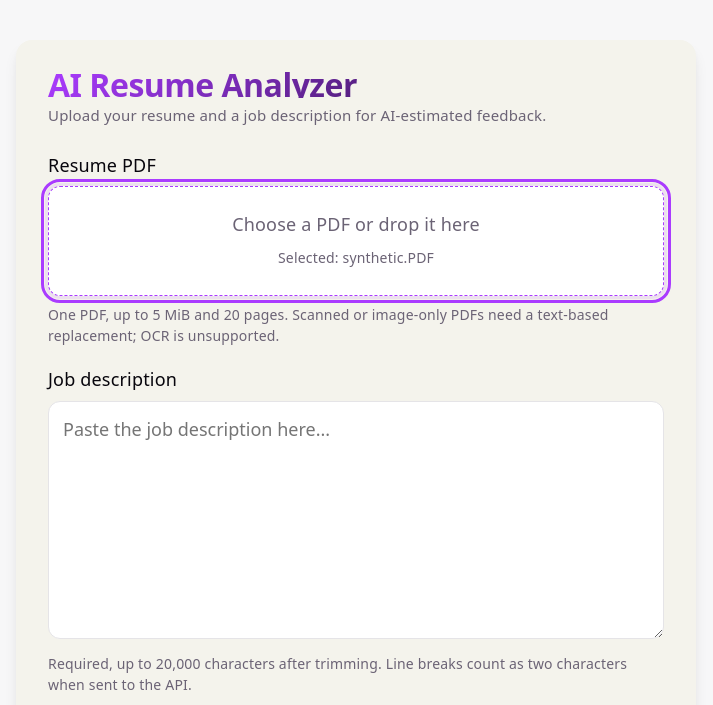
submits trimmed multipart input once, renders feedback, and clears all session state
Earlier steps of the test are not shown.
Type "  Python developer  " into the text box labelled "Job description" at (356, 520), box [48,401,664,639]
(page scrolled)
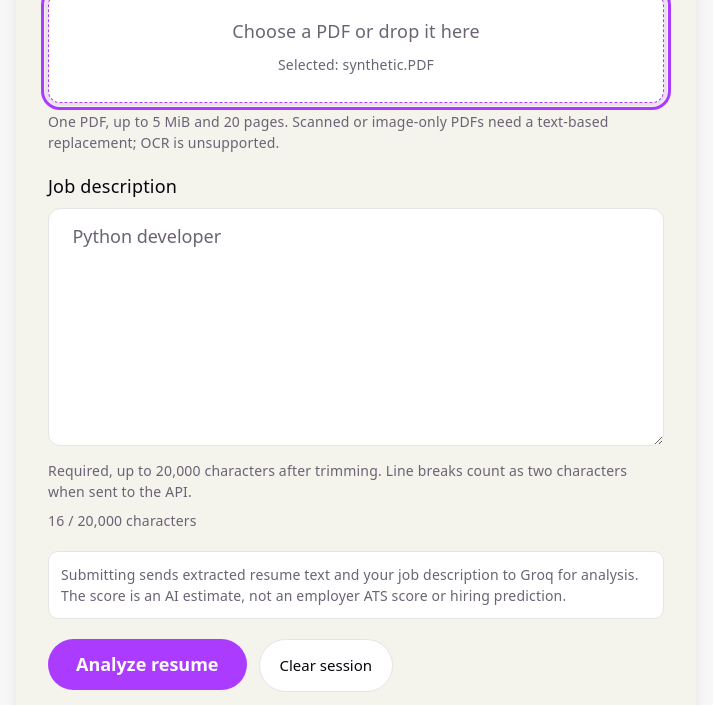
Submit the form named "Analyze resume"
(page scrolled)
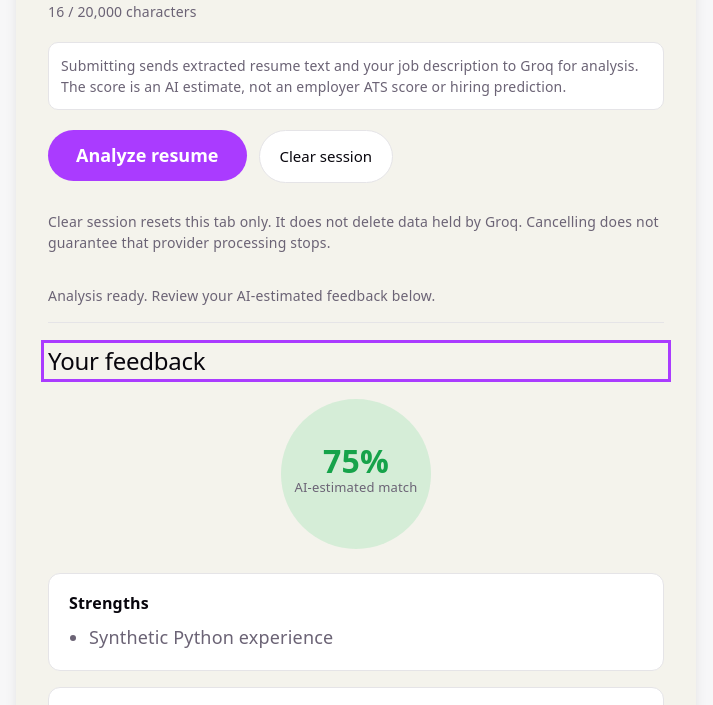
Expected: the heading "Your feedback" is shown, [48,344,205,376]
Expected: the text "AI-estimated match" is shown, [294,474,418,500]
Click the button "Clear session" at (326, 156), box [258,130,393,182]
(page scrolled)
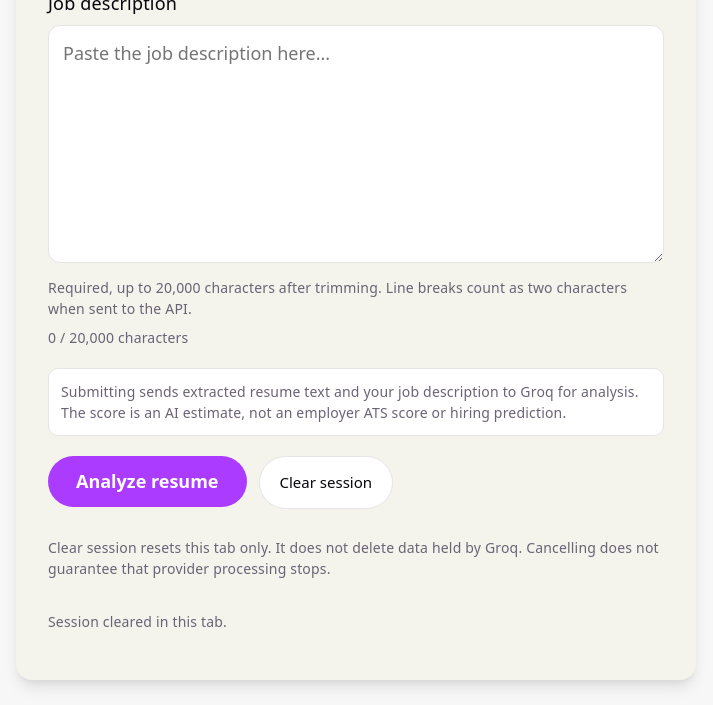
Expected: the text box labelled "Job description" is empty, [48,25,664,263]
Expected: the heading "Your feedback" is gone
Expected: the message shows "Session cleared", [48,612,227,630]
